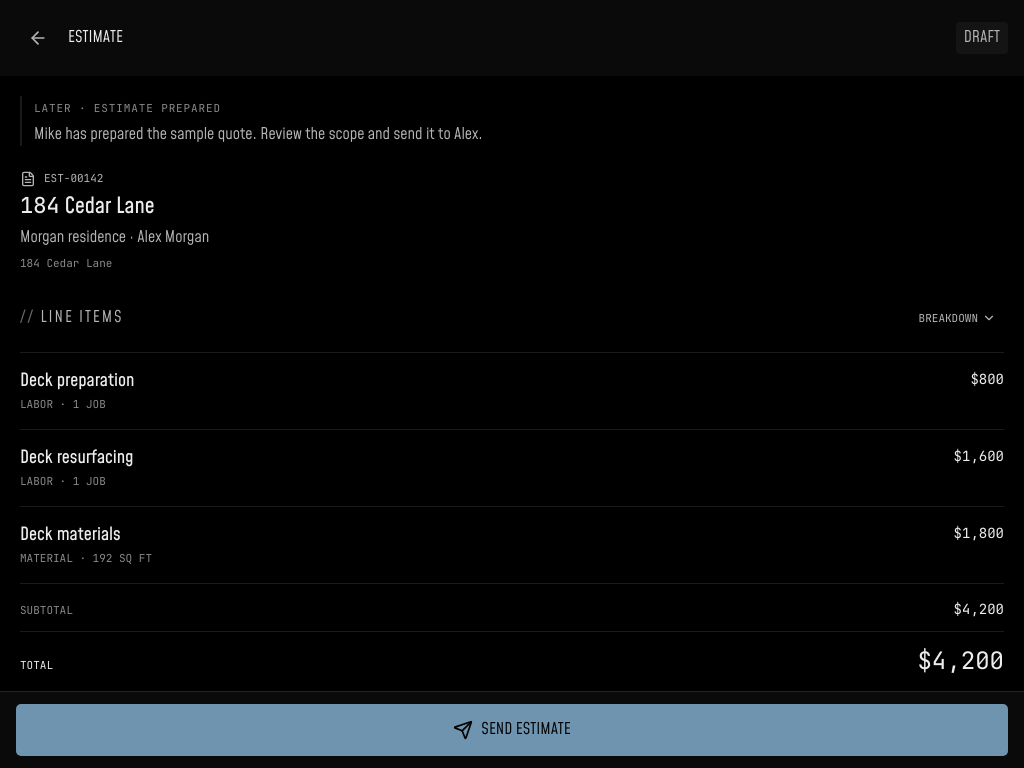
Scenario: estimate beta and the optional custom tool › keeps beta disclosure out of estimate screens and waits for incoming acceptance
Expected: the text "Draft" is shown, [956,22,1008,54]
Click the button "Send estimate": (512, 730) [16,704,1008,756]
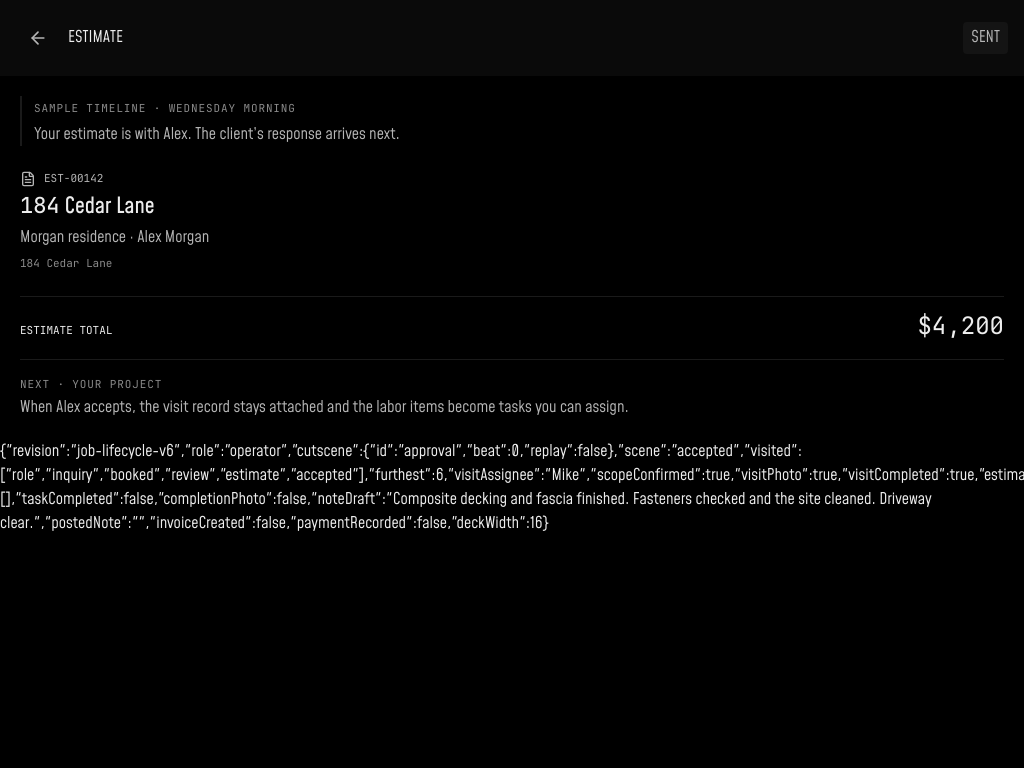
Result: the text "Sample timeline · Wednesday morning" is shown at [34,101,296,115]
Result: the text "Sent" is shown at [963,22,1008,54]
